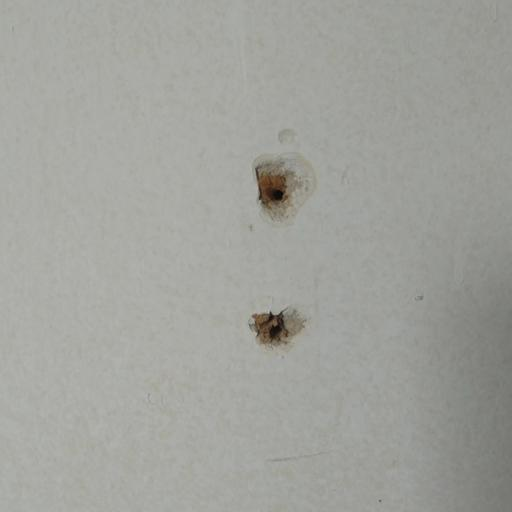spalling: (240, 128, 321, 237), (231, 289, 317, 371)
